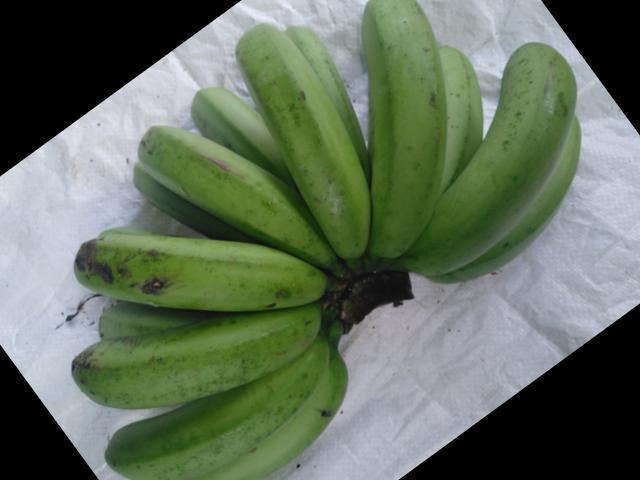rotten: (52, 235, 180, 304)
unripe: (423, 39, 577, 291), (233, 24, 372, 256), (58, 298, 331, 408), (93, 360, 336, 475), (53, 212, 335, 307), (353, 6, 447, 267)
